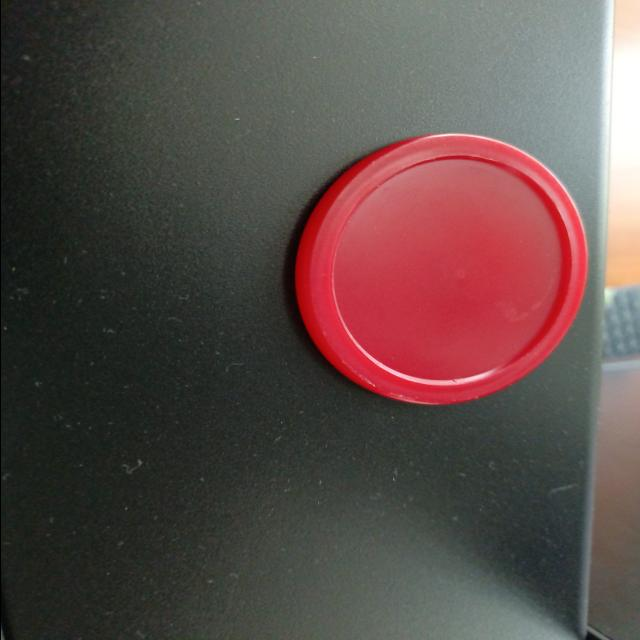chip: (291, 136, 593, 408)
